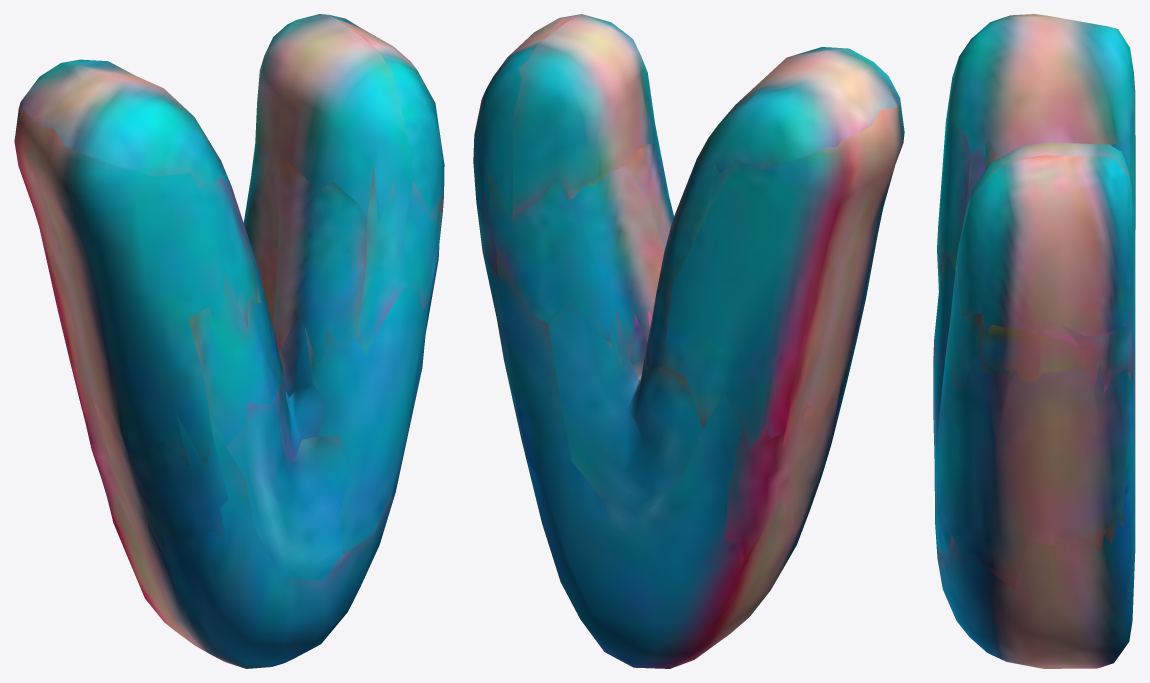
The picture shows the model from 3 angles, left to right: view 1: azimuth 30°, elevation 25°; view 2: azimuth 150°, elevation 25°; view 3: azimuth 270°, elevation 25°; orthographic projection. The views are drawn at different scales.
Visible parts, largest first — view 1: Candy-Letter-V; view 2: Candy-Letter-V; view 3: Candy-Letter-V.
Part boxes in pixels (x1,y1,x2,y2): Candy-Letter-V: (14, 14, 444, 668); Candy-Letter-V: (473, 14, 904, 668); Candy-Letter-V: (933, 14, 1135, 668).
Bounding box in the file's own units: 0.2281 × 0.3493 × 0.1111.
Materials: 1 (1 with a texture image).
